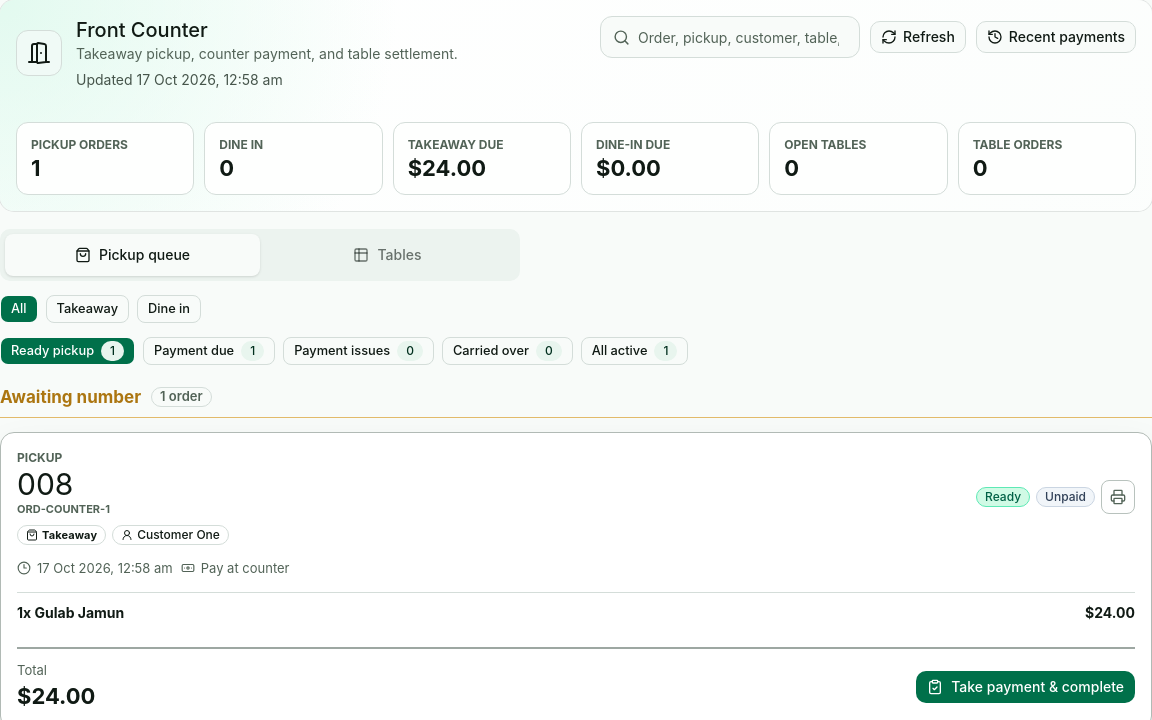
Test case: a counter payment that goes through while the pickup completion fails › replaces the dialog with one that can only finish the pickup
Click the button "Take payment & complete".
click(1026, 687)  # box [916,671,1135,703]
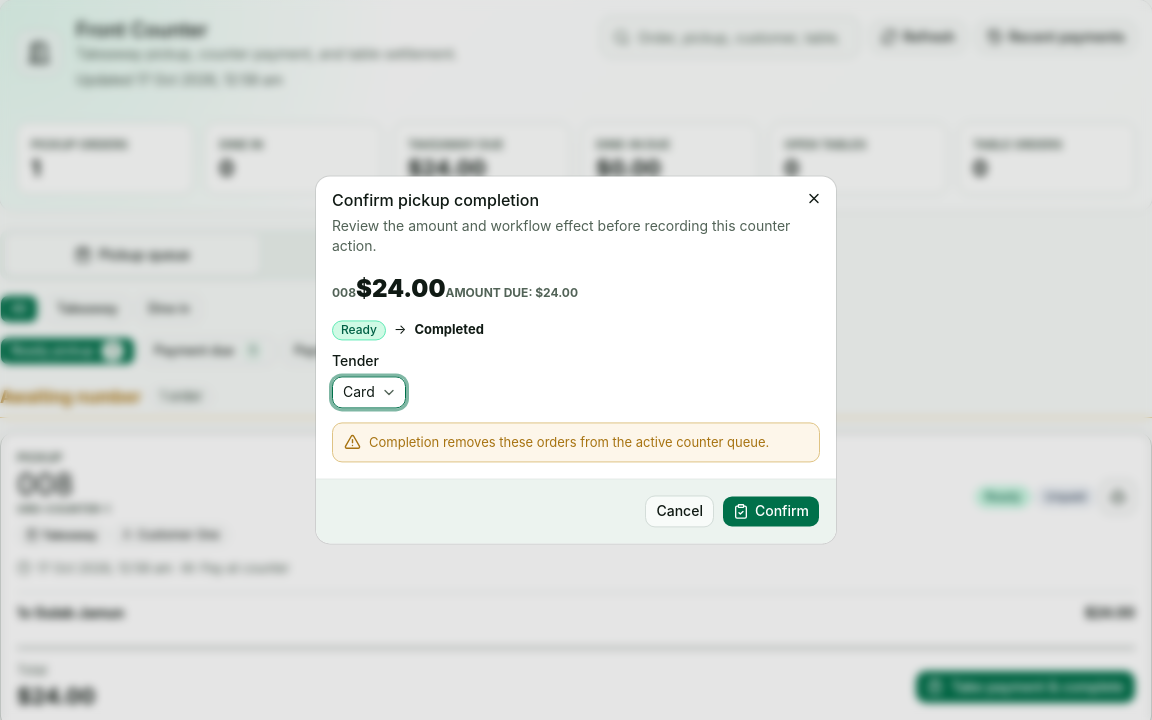
Click the button "Confirm".
click(771, 512)  # box [722,496,820,528]
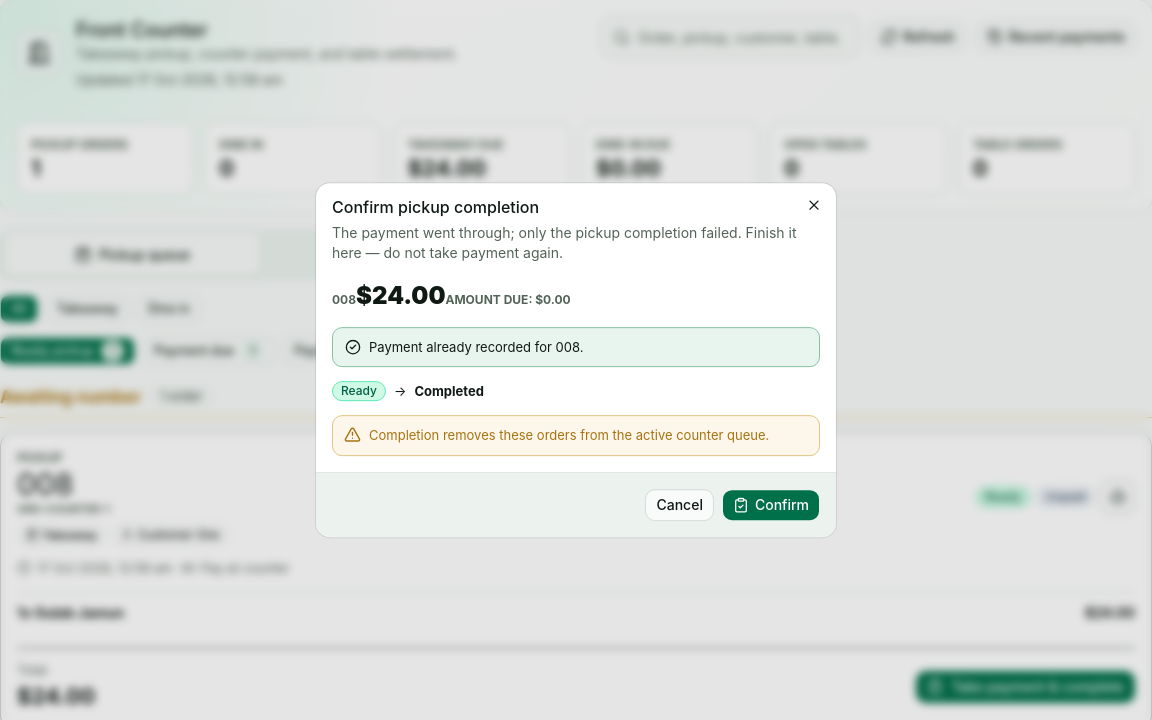
Expected: the text "Payment already recorded for 008." is shown, [369,338,583,356]
